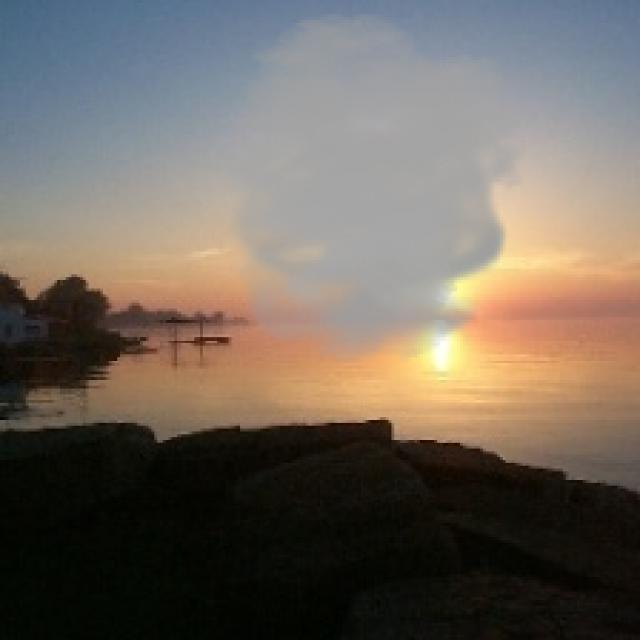smoke: (186, 11, 537, 363)
